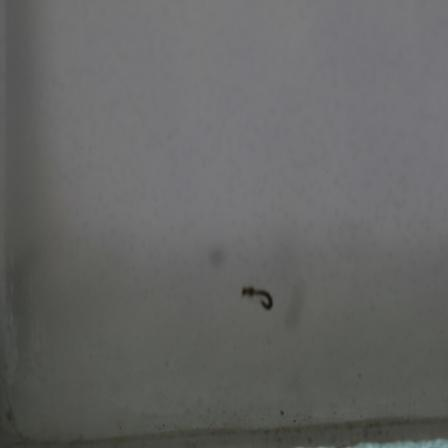Jentik-Nyamuk: (240, 283, 277, 319)
